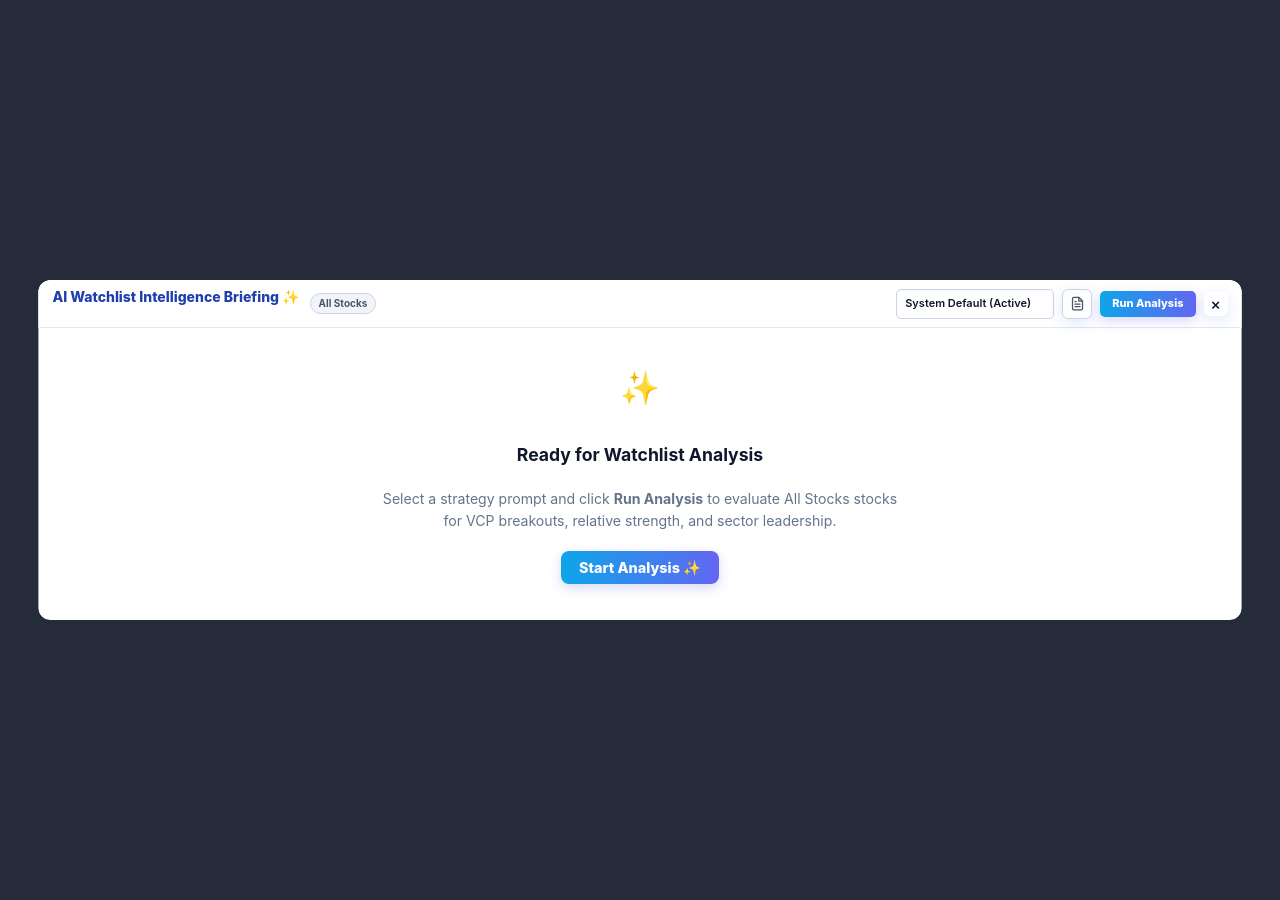
AnalyzeModal › allows viewing and closing the prompt instructions
Step 1. Click the button titled "View Strategy Prompt Instructions" → coordinates (1077, 304), box [1062, 288, 1092, 318]
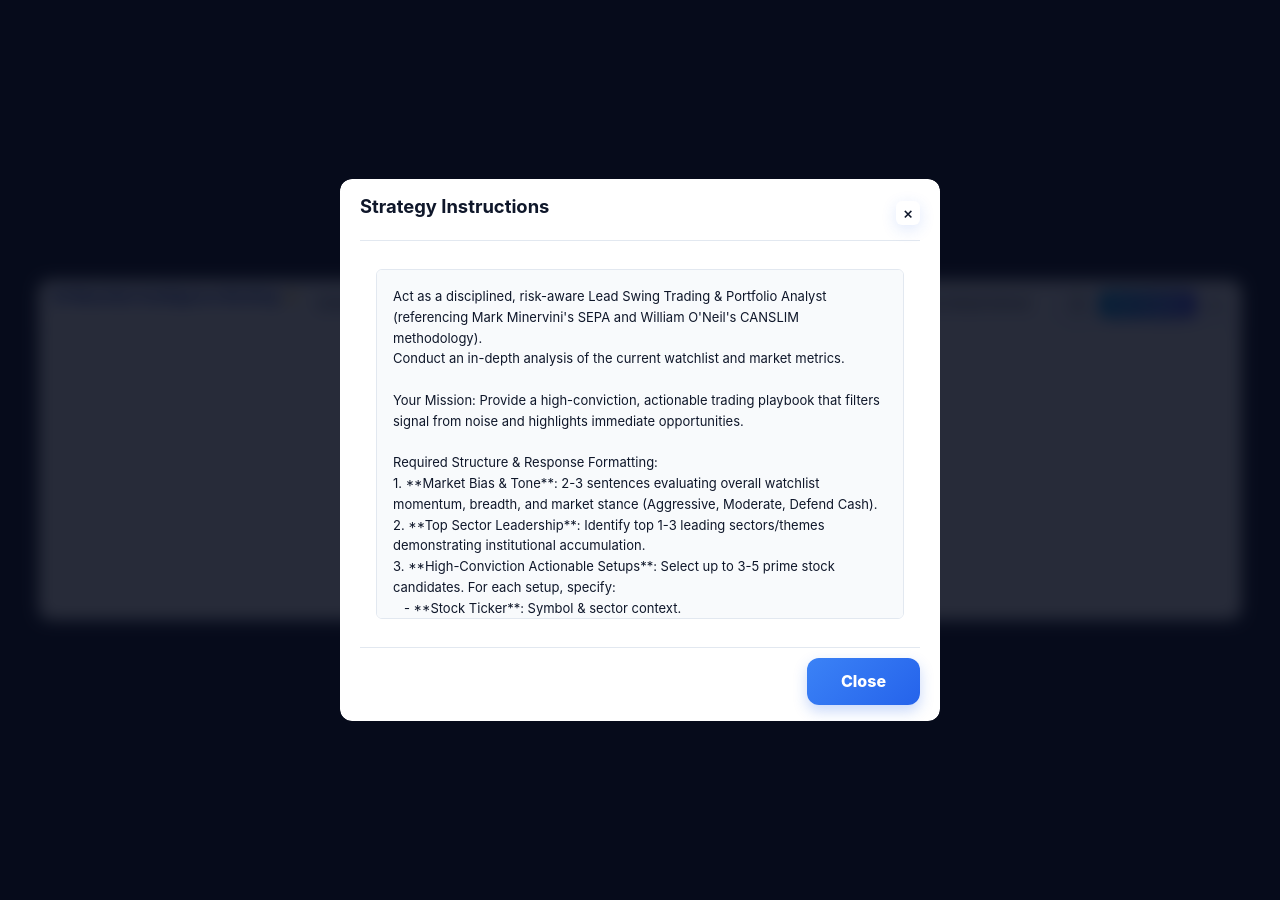
Expected: the heading "Strategy Instructions" is shown, [360, 195, 549, 218]
Step 2. Click the button "Close" → coordinates (863, 682), box [807, 658, 920, 705]
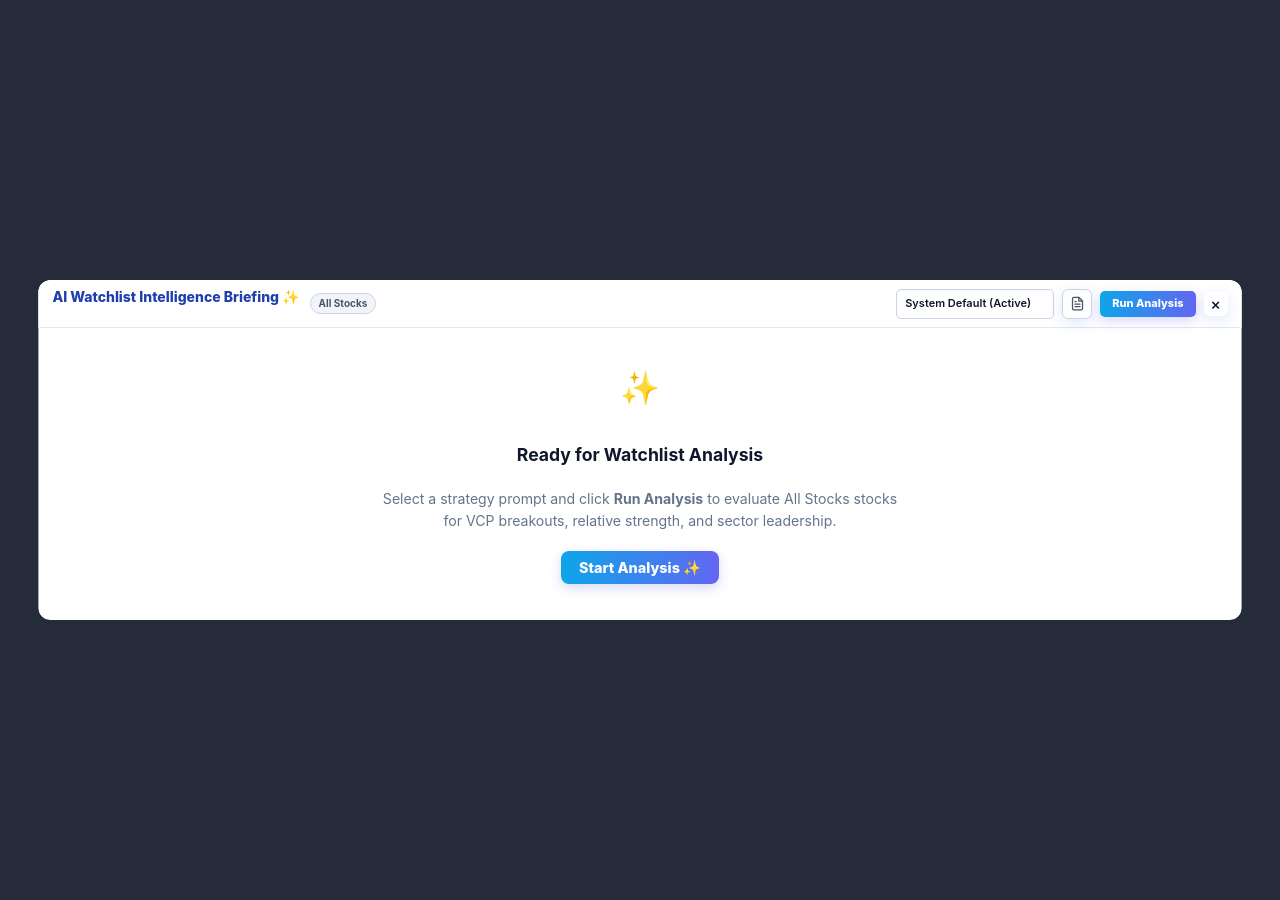
Expected: the heading "Strategy Instructions" is gone
